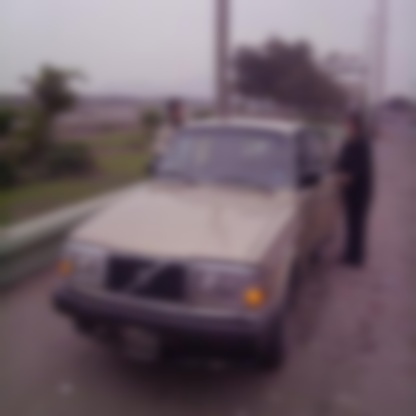Vehicle: (50, 112, 348, 377)
